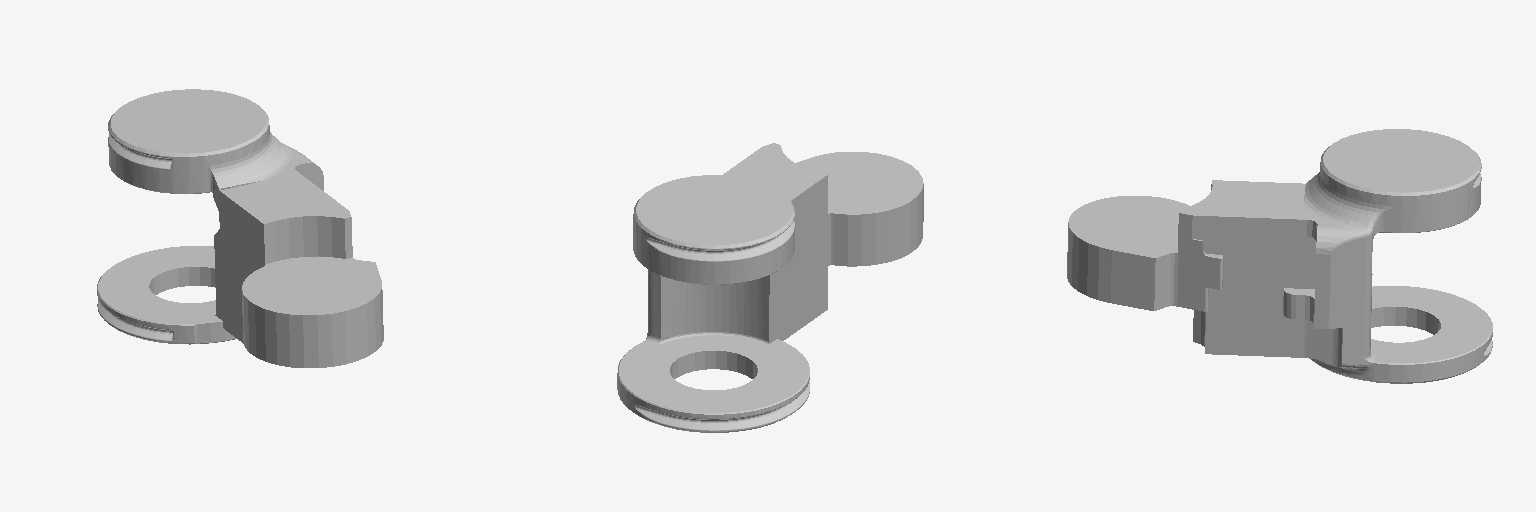
The model's file is converted_r3_finger_proximal_808080ff.obj.
3 views of the same model, side by side, from view 1: azimuth 30°, elevation 25°; view 2: azimuth 150°, elevation 25°; view 3: azimuth 270°, elevation 25° (orthographic).
Bounding box in the file's own units: 0.0388 × 0.0398 × 0.0817.